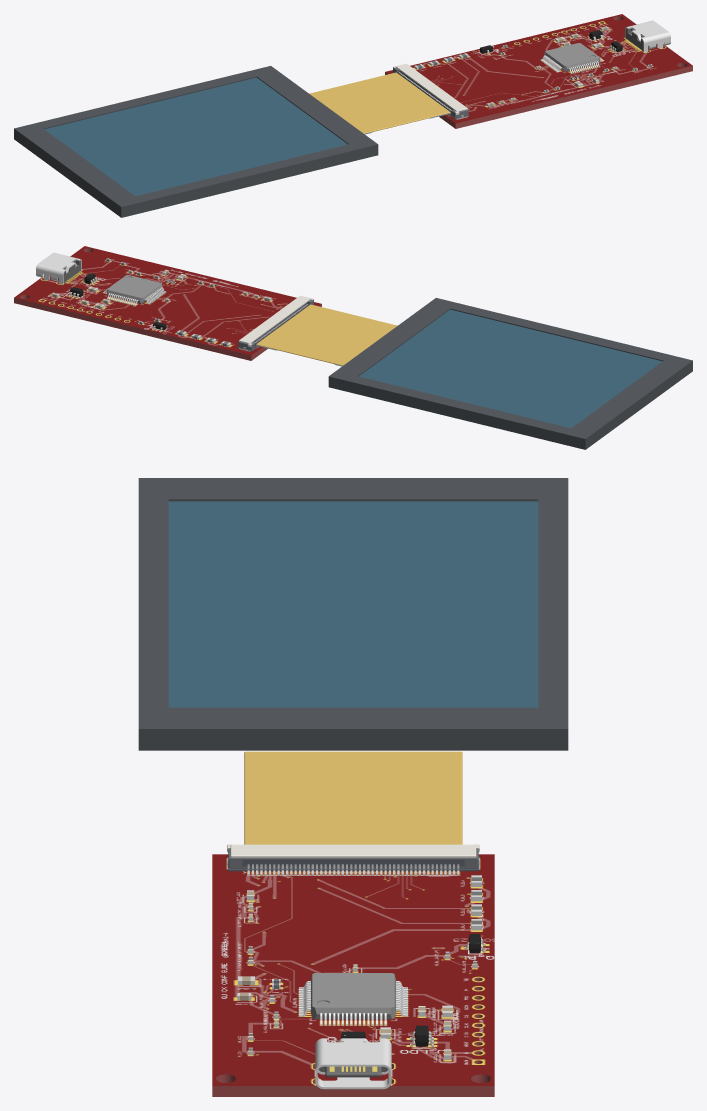
3 renders of one model, top to bottom at view 1: azimuth 30°, elevation 25°; view 2: azimuth 150°, elevation 25°; view 3: azimuth 270°, elevation 25°, orthographic. The views are drawn at different scales.
Parts seen in each view (by area): view 1: J_DISPLAY, Box0, U_MAIN, J_USB; view 2: J_DISPLAY, Box0, U_MAIN, J_USB; view 3: J_DISPLAY, Box0, U_MAIN, J_USB.
Boxes of the visible parts, bbox=[...] form: J_DISPLAY: bbox=[14, 63, 468, 217]; Box0: bbox=[385, 14, 692, 128]; U_MAIN: bbox=[540, 43, 604, 73]; J_USB: bbox=[625, 20, 670, 52]; J_DISPLAY: bbox=[238, 295, 692, 449]; Box0: bbox=[14, 246, 321, 360]; U_MAIN: bbox=[102, 275, 166, 305]; J_USB: bbox=[36, 252, 81, 284]; J_DISPLAY: bbox=[138, 478, 568, 875]; Box0: bbox=[212, 854, 494, 1096]; U_MAIN: bbox=[299, 973, 407, 1025]; J_USB: bbox=[315, 1038, 391, 1089].
Size of the model in its own units: 160 by 5.53 by 50.2.
Materials: 27 (2 with a texture image).
